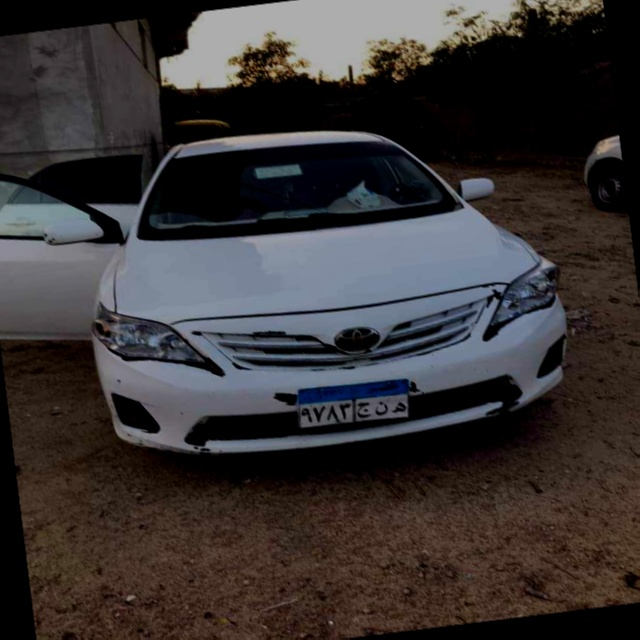License Plate: (292, 374, 416, 434)
